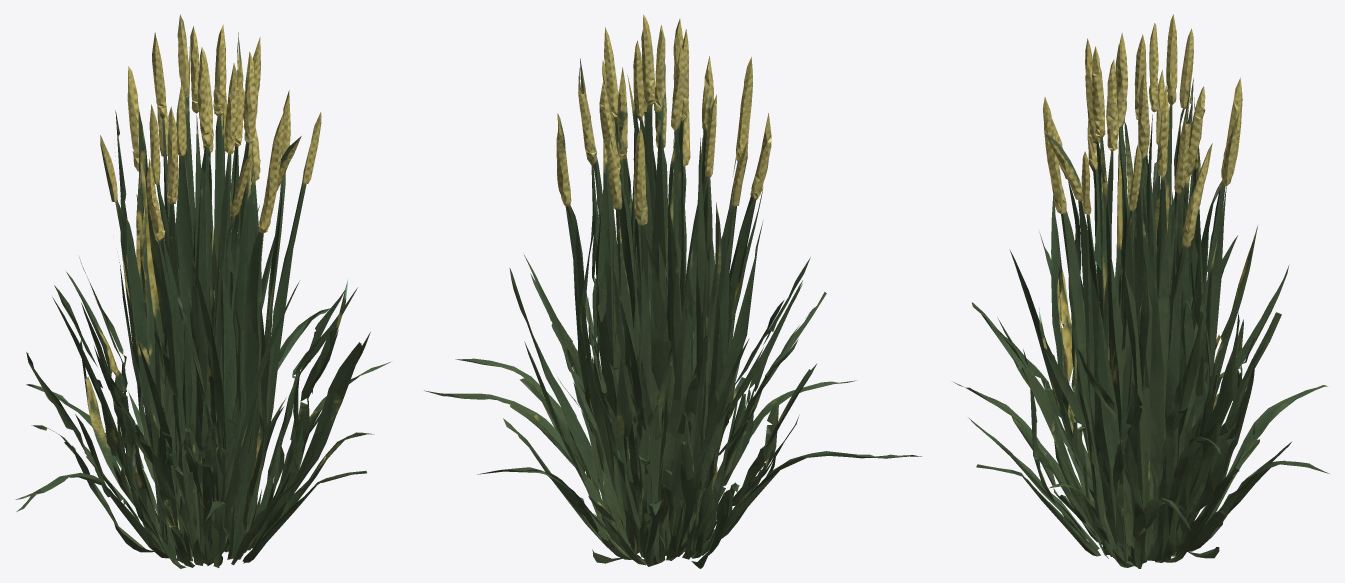
File: Horsetail.glb
3 renders of one model, left to right at view 1: azimuth 30°, elevation 25°; view 2: azimuth 150°, elevation 25°; view 3: azimuth 270°, elevation 25°, orthographic.
Size of the model in its own units: 1.66 by 1.9 by 1.25.
1 material, 1 textured.
